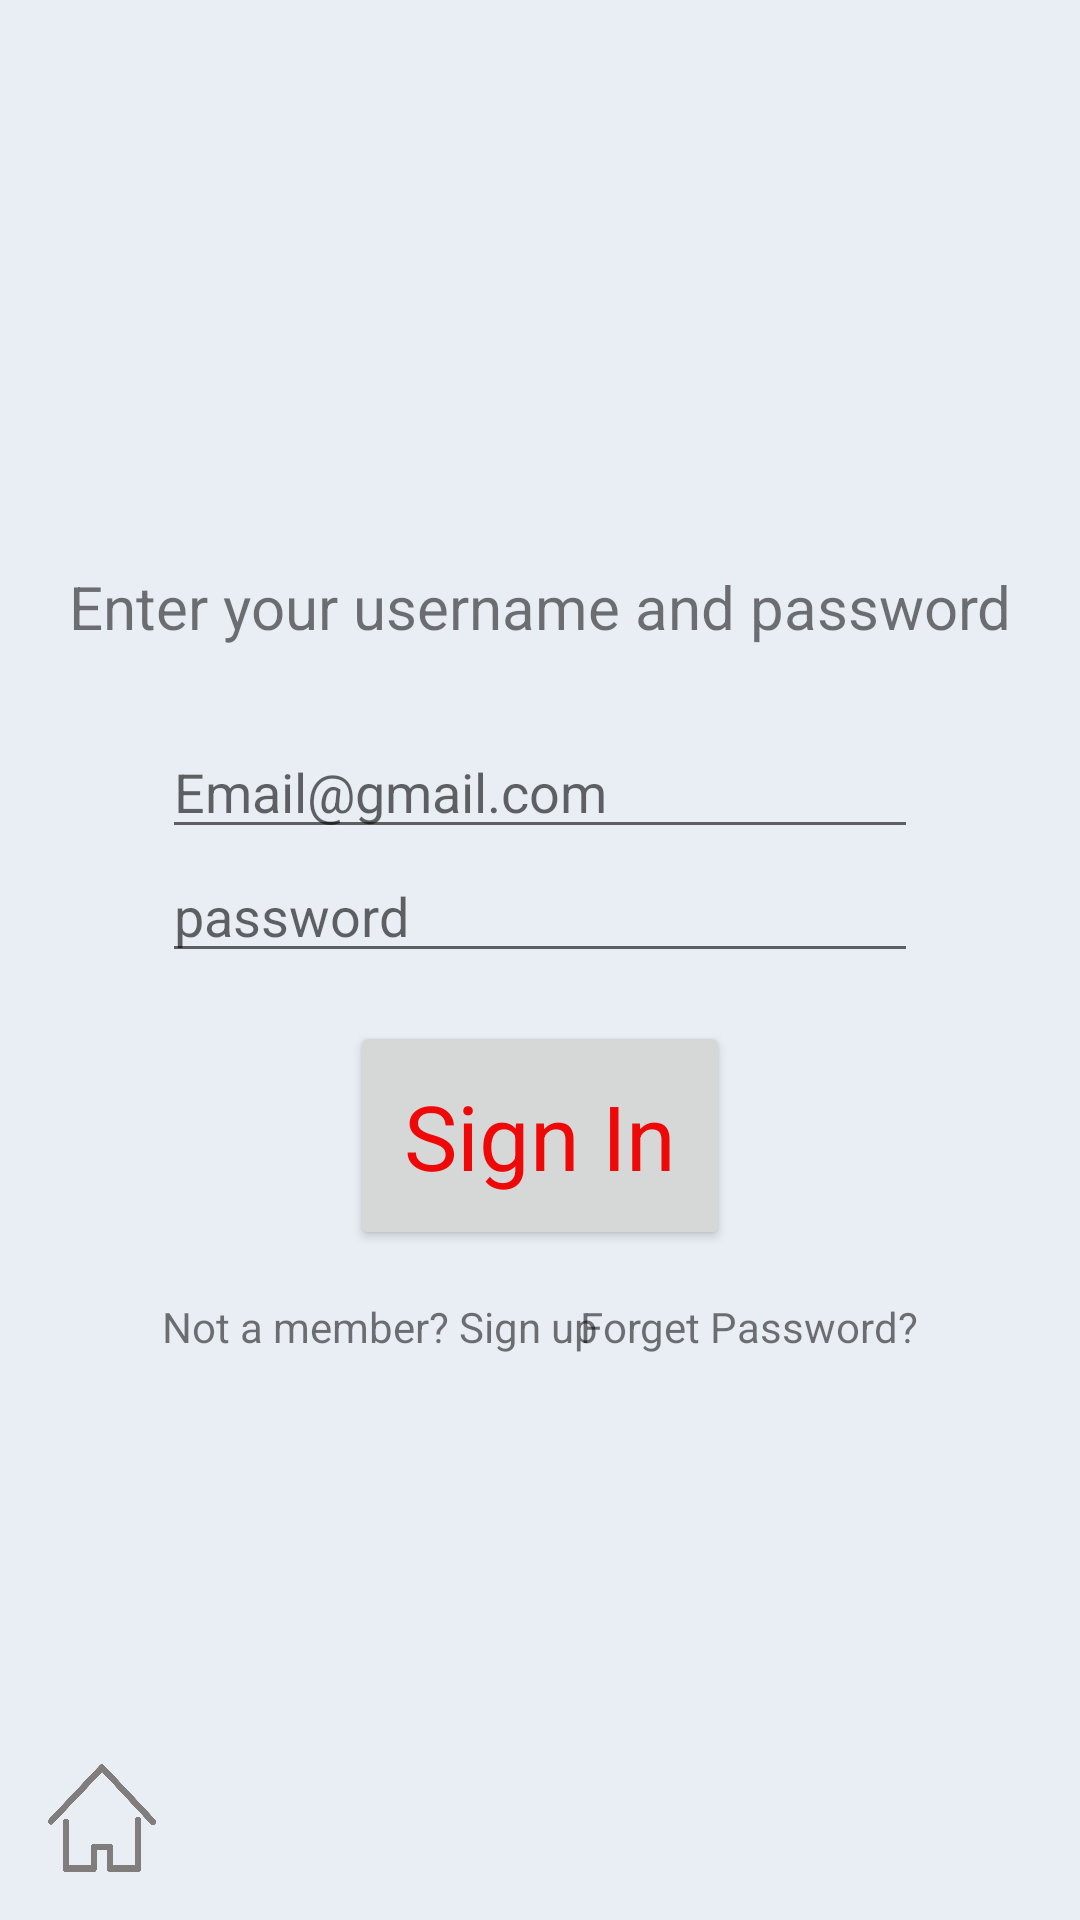

Icon click points for this 1080*1920 phone screenshot, format [x,y]:
home: [102,1818]
